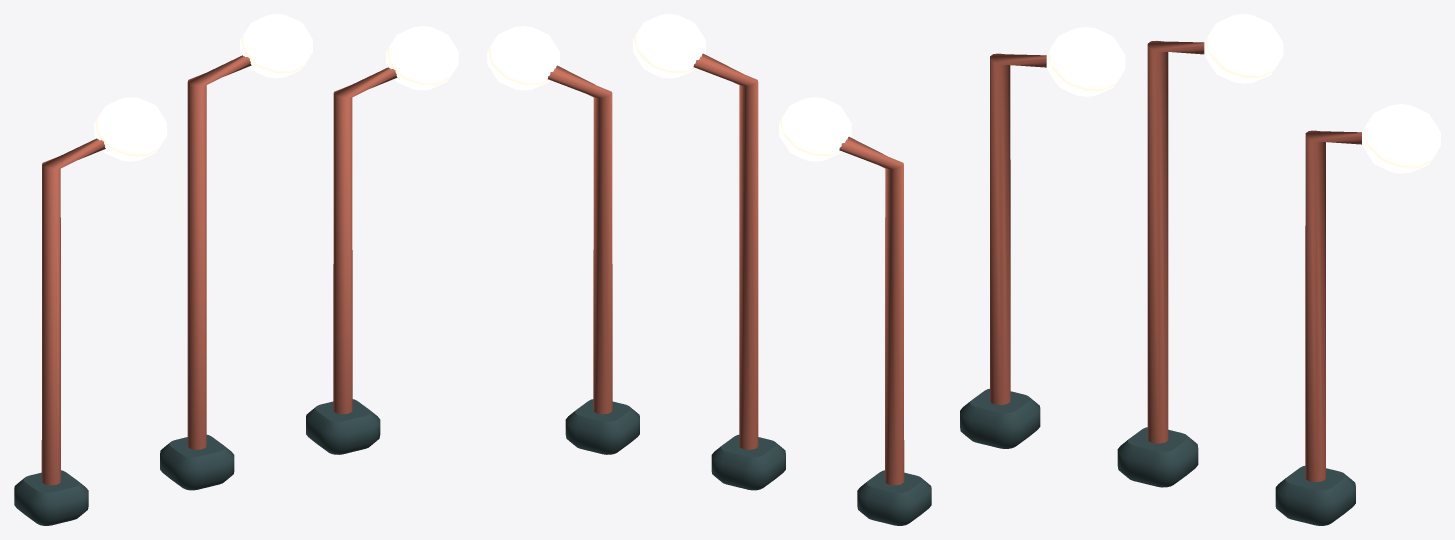
File: lights_5.glb
The picture shows the model from 3 angles, left to right: view 1: azimuth 30°, elevation 25°; view 2: azimuth 150°, elevation 25°; view 3: azimuth 330°, elevation 25°; orthographic projection. The views are drawn at different scales.
Parts seen in each view (by area): view 1: Lights; view 2: Lights; view 3: Lights.
Part boxes in pixels (x1,y1,x2,y2): Lights: [14, 14, 458, 525]; Lights: [487, 14, 931, 525]; Lights: [960, 14, 1440, 525].
Bounding box in the file's own units: 3.7 × 3.62 × 0.5265.
